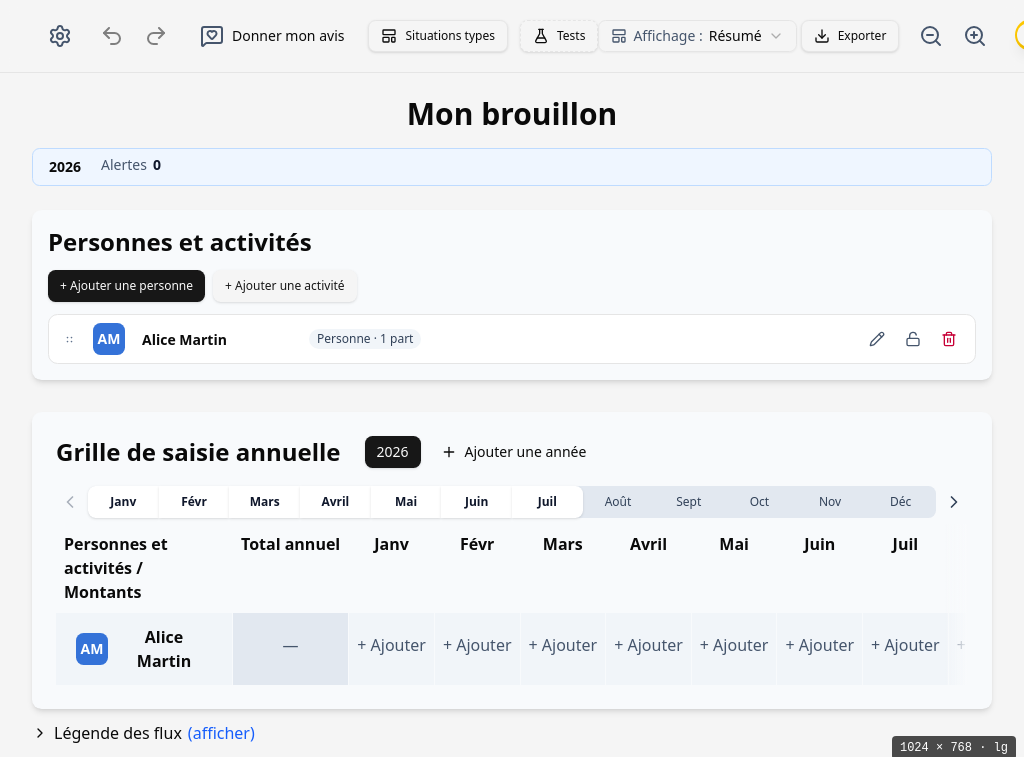
Test: App : montages types › depuis les paramètres, demande confirmation avant de remplacer une simulation non enregistrée, puis reste annulable
The width and height of the screenshot is (1024, 757).
Expected: the heading "Mon brouillon" is shown, [407,93,617,134]
Replace the text in the field named "Nom" with "Bob": (217, 339) [137,323,297,355]
Then press Enter
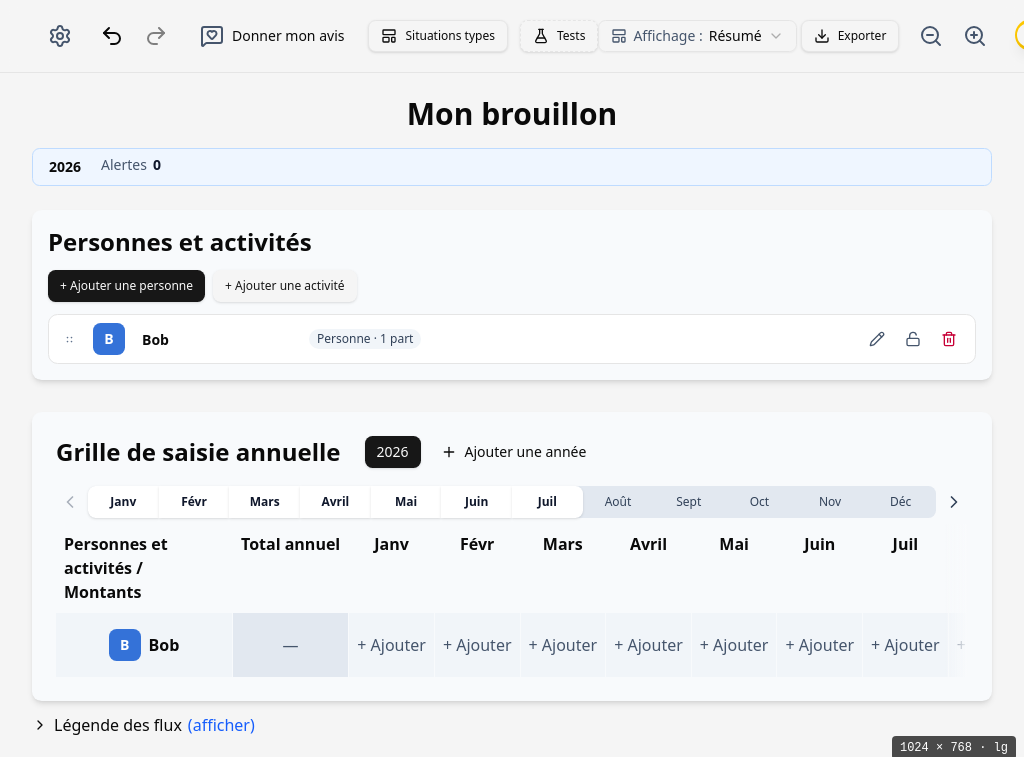
Expected: the button named "Annuler" is enabled, [92,16,132,56]
Click the button named "Paramètres": click(60, 36) [40,16,80,56]
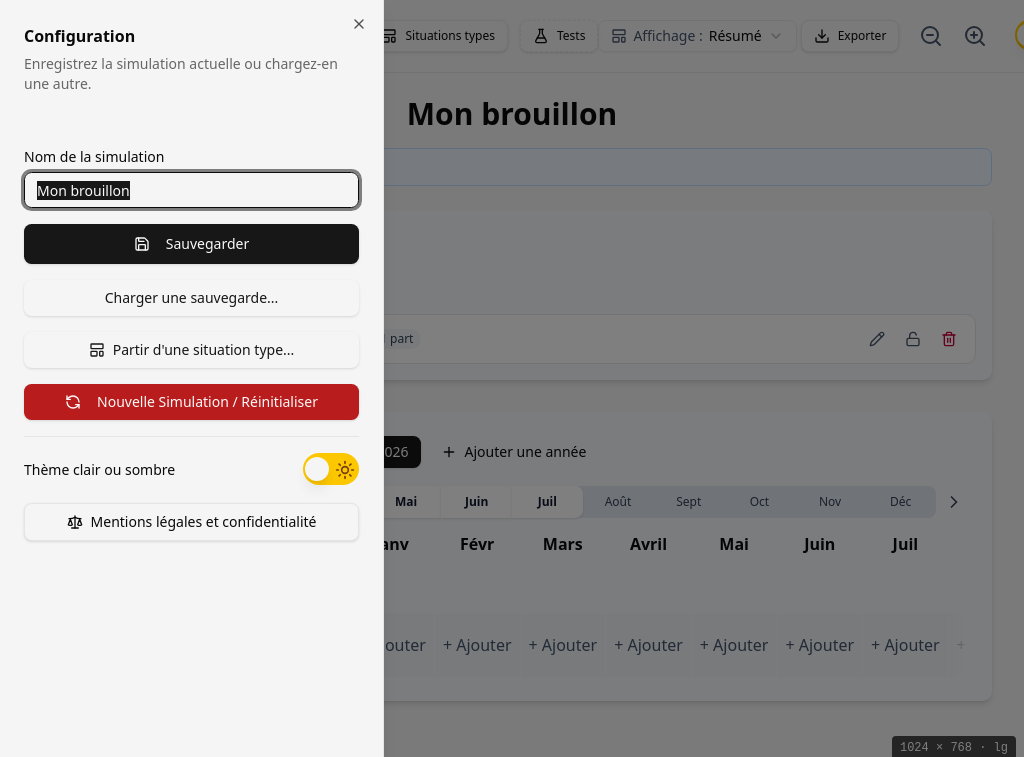
Click the button "Partir d'une situation type...": click(192, 350) [24,332,359,368]
(page scrolled)
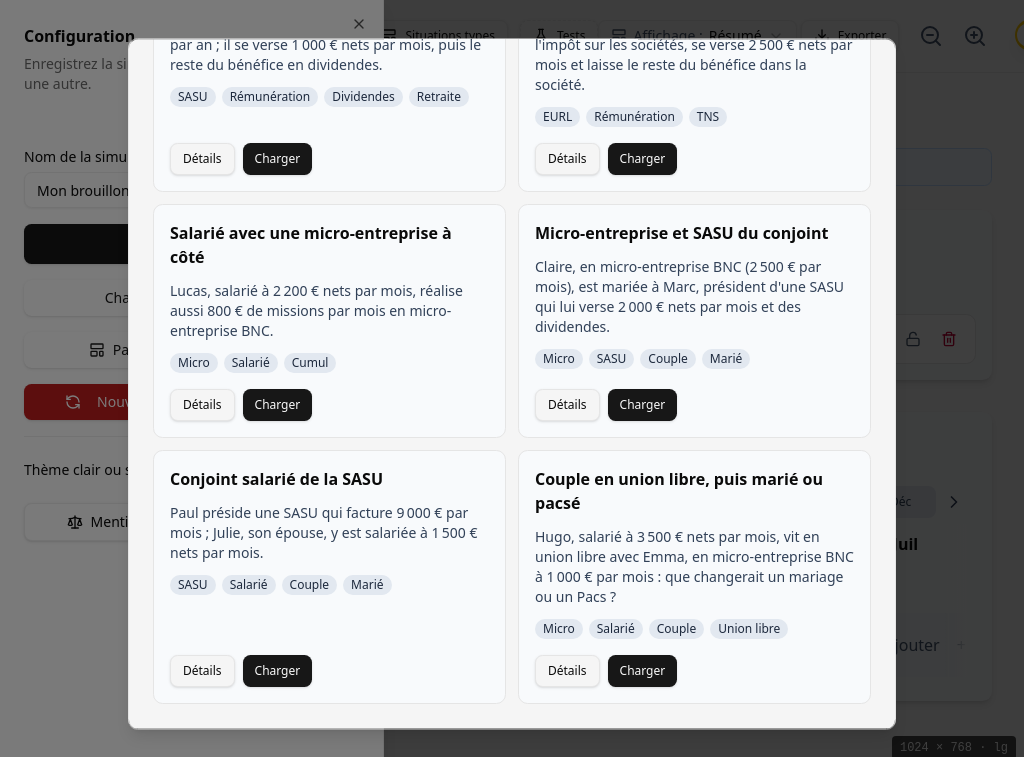
Click the button named "Détails de la situation « Salarié avec une micro-entreprise à côté »": click(202, 405) [170,389,234,421]
(page scrolled)
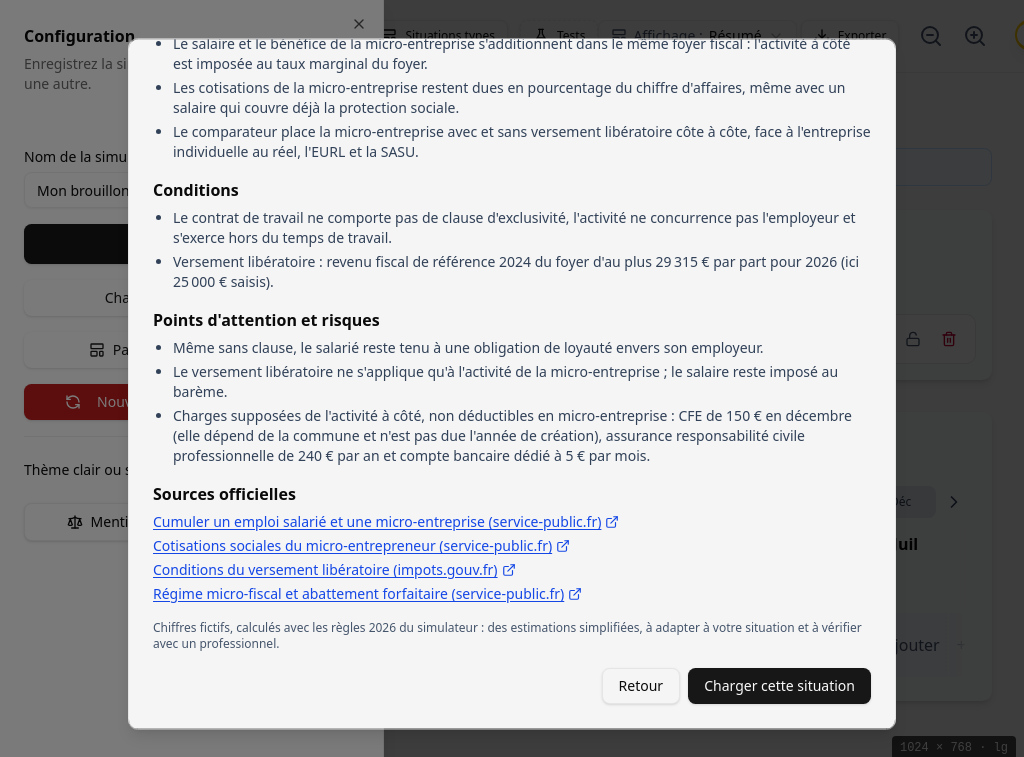
Click the button "Charger cette situation": click(780, 686) [688,668,871,704]
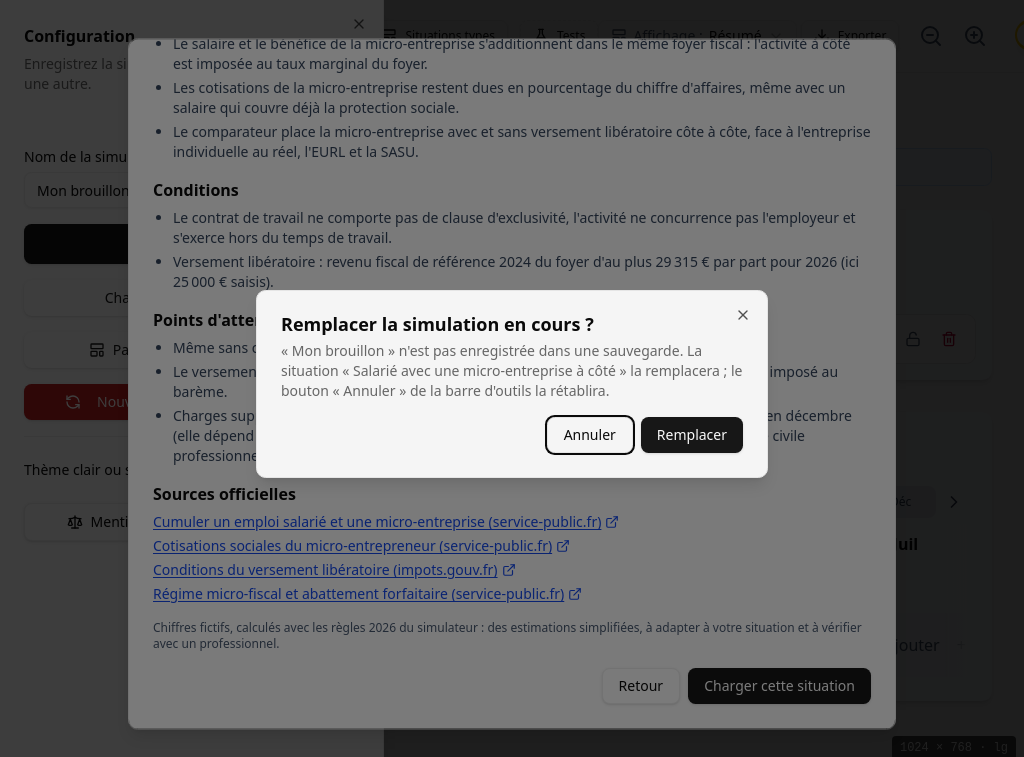
Expected: the dialog "Remplacer la simulation en cours ?" shows "« Mon brouillon »", [256,290,768,478]
Click the button "Remplacer": click(692, 435) [641,417,743,453]
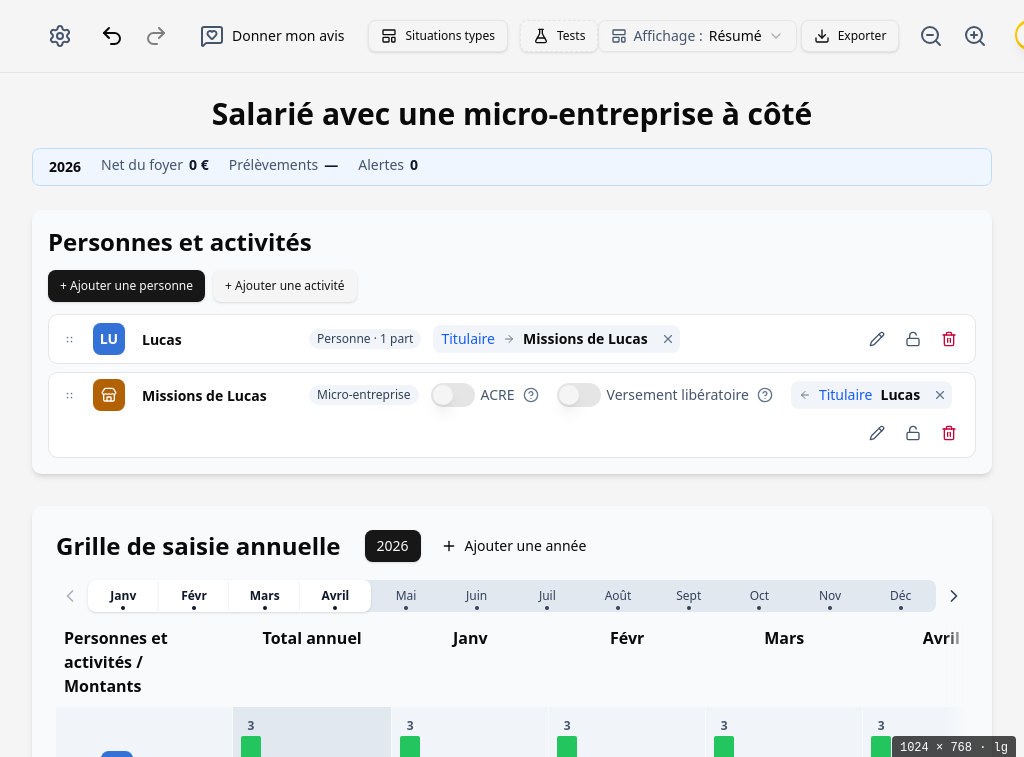
Expected: the button named "Annuler" is enabled, [92,16,132,56]
Expected: the heading "Salarié avec une micro-entreprise à côté" is shown, [212,93,812,134]
